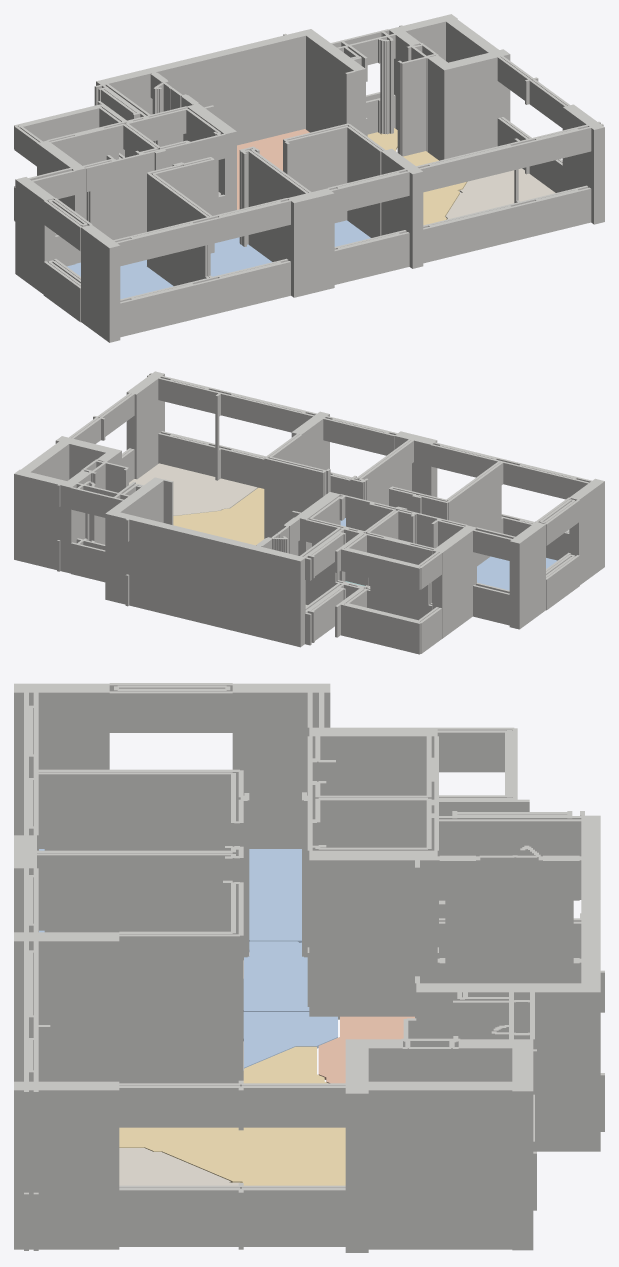
3 renders of one model, top to bottom at view 1: azimuth 30°, elevation 25°; view 2: azimuth 150°, elevation 25°; view 3: azimuth 270°, elevation 25°, orthographic. The views are drawn at different scales.
Parts seen in each view (by area): view 1: walls, room:other:8, room:living:5, room:bedroom:6, room:bedroom:9, room:kitchen:2, room:bedroom:7; view 2: walls, room:other:8, room:living:5, room:bedroom:9; view 3: walls, room:living:5, room:bedroom:9, room:bedroom:6, room:bedroom:7, room:other:8, room:kitchen:2.
Boxes of the visible parts, x1,y1,x2,y2 form: walls: (14,14,604,342); room:other:8: (445,168,555,219); room:living:5: (367,128,467,225); room:bedroom:6: (210,237,272,276); room:bedroom:9: (67,260,173,299); room:kitchen:2: (237,129,309,209); room:bedroom:7: (334,220,370,246); walls: (14,371,604,654); room:other:8: (129,463,257,515); room:living:5: (173,487,264,545); room:bedroom:9: (477,556,557,590); walls: (14,683,604,1252); room:living:5: (119,1046,345,1185); room:bedroom:9: (39,849,301,942); room:bedroom:6: (39,930,309,1011); room:bedroom:7: (243,1012,337,1068); room:other:8: (119,1148,239,1185); room:kitchen:2: (318,1016,414,1083).
Bounding box in the file's own units: 15.48 × 2.8 × 9.42.
